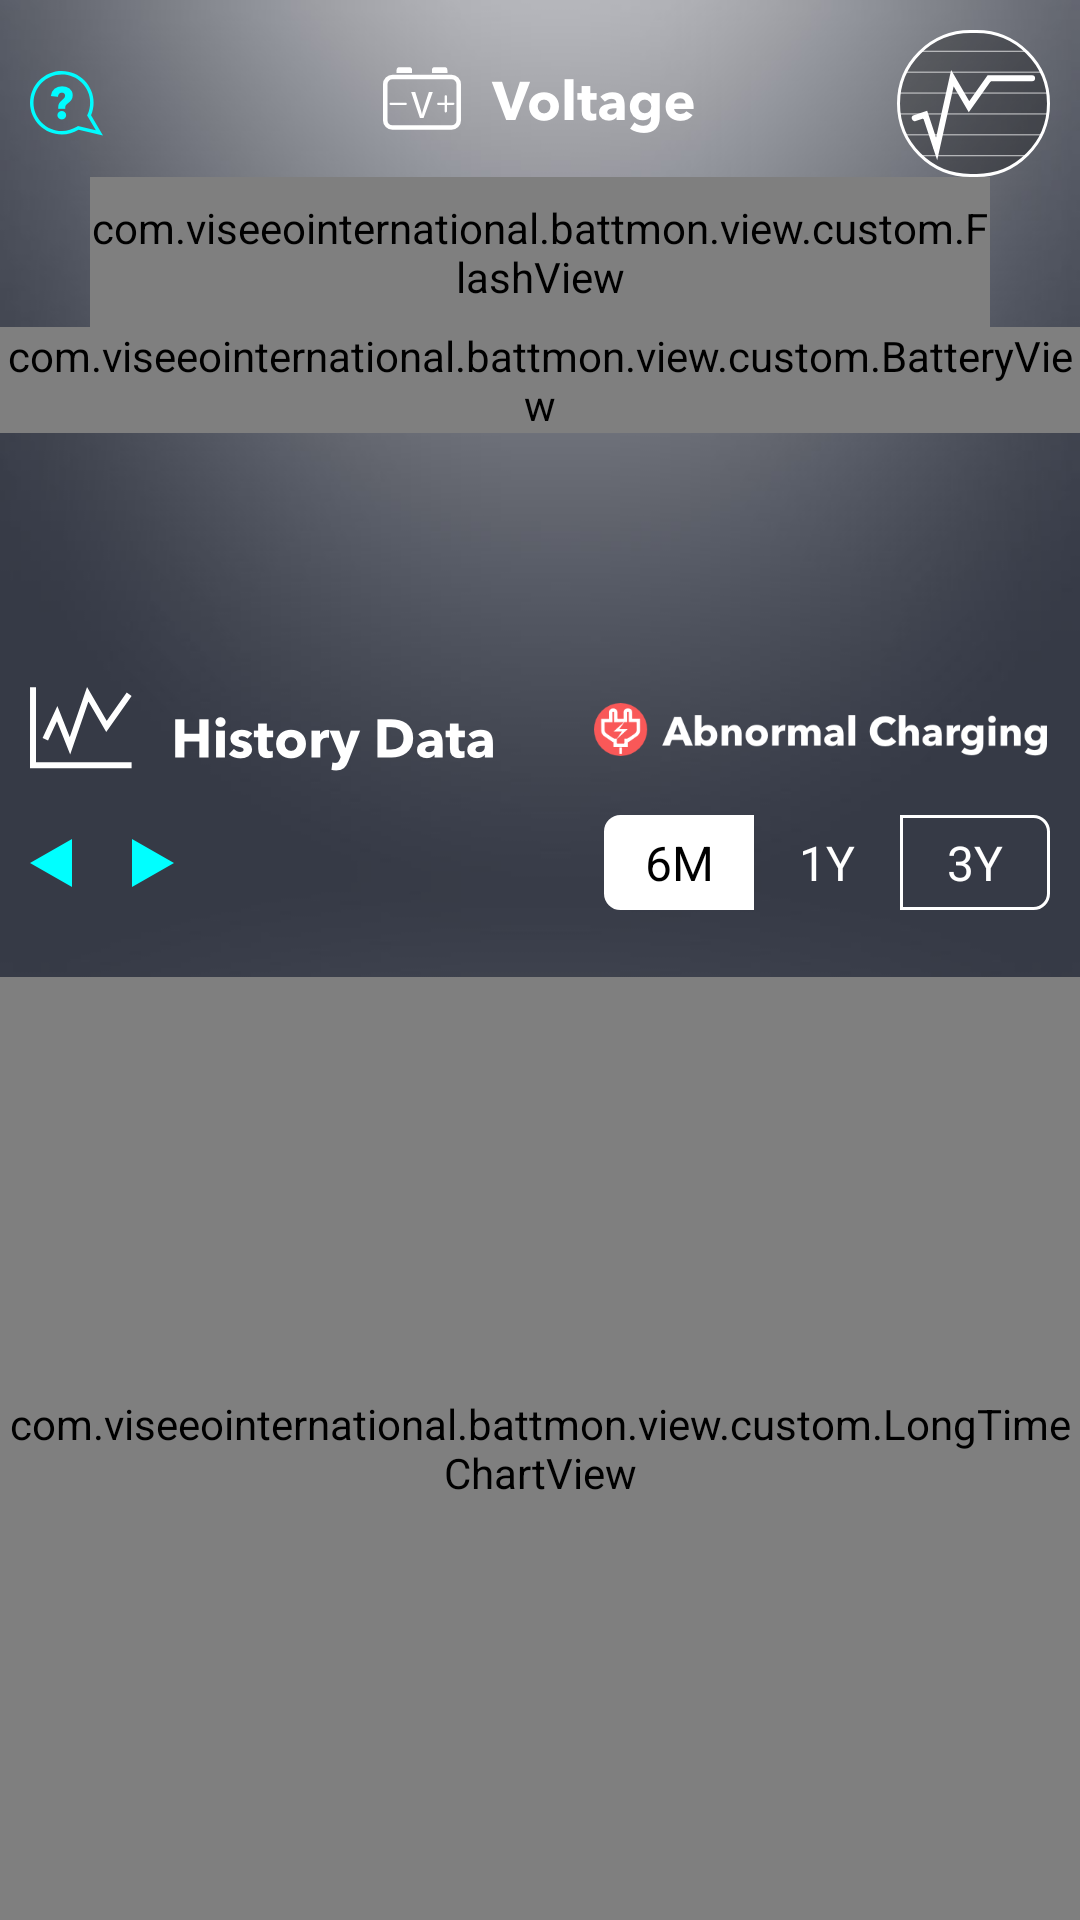

Icons on this 1080×1920 Android screen, each with the point to tap as (x,y):
graph: (973,103)
left: (51,863)
right: (153,863)
teach: (66,103)
